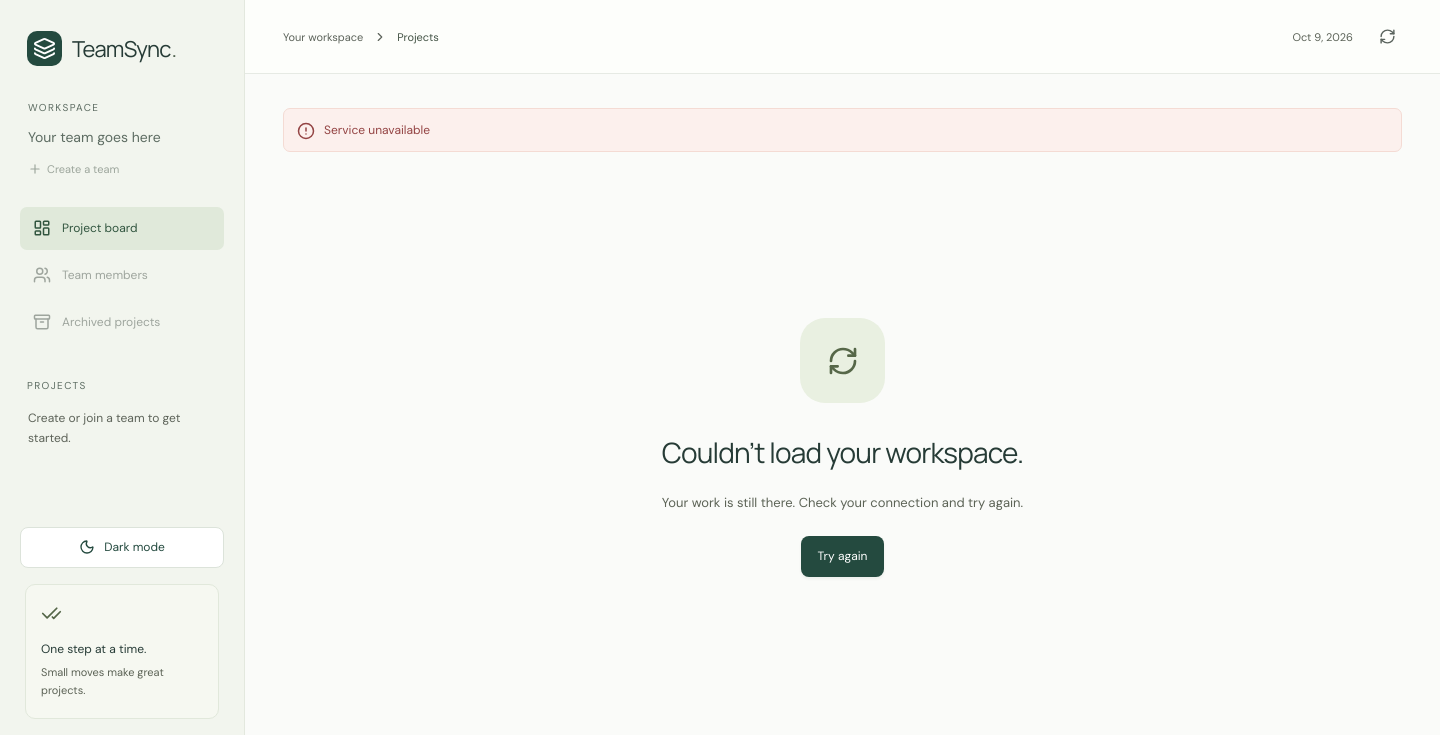
Test: shows a retry screen instead of empty onboarding when loading fails
The image size is (1440, 735).
expect the heading "Couldn’t load your workspace." is shown: met, box [662, 433, 1023, 471]
Click the button "Try again".
click(843, 556)  # box [801, 536, 884, 577]
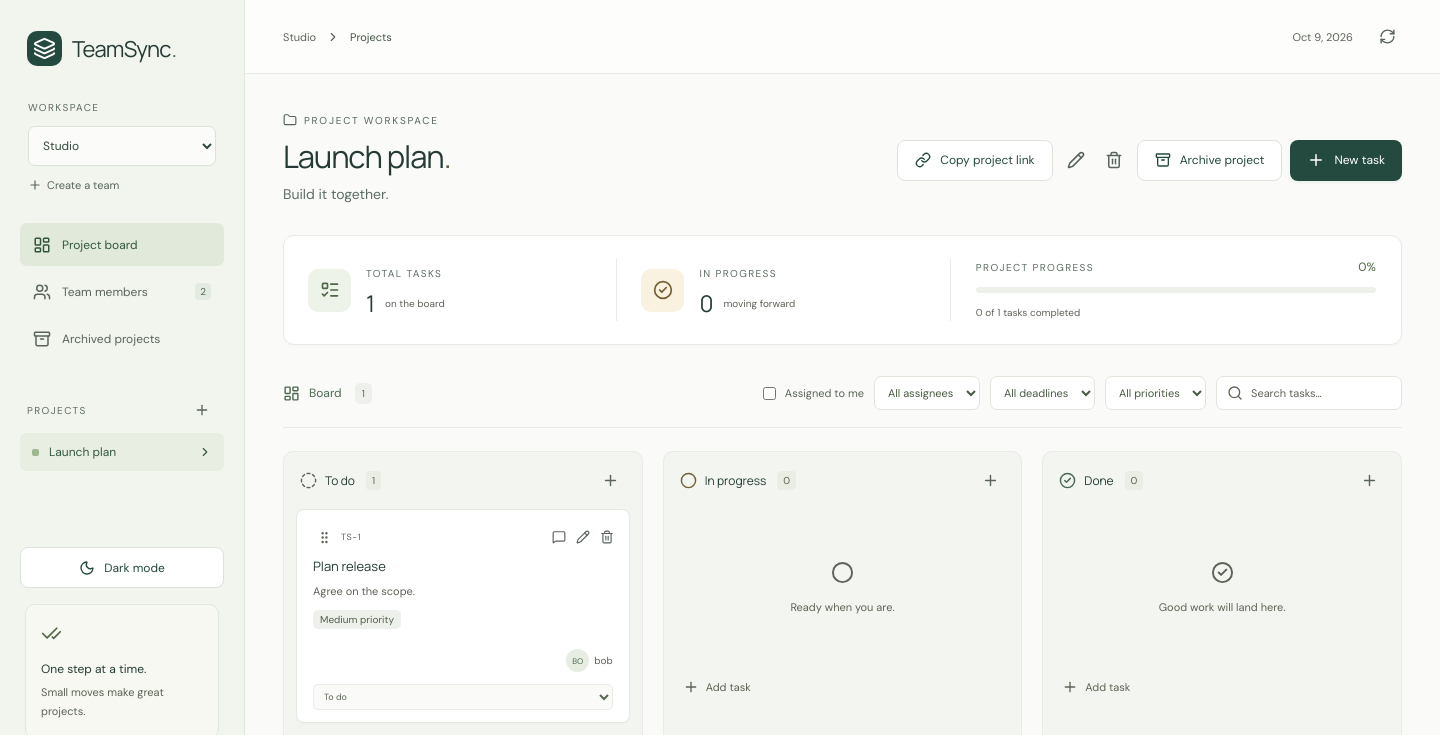
expect the heading "Launch plan." is shown: met, box [283, 136, 450, 176]
